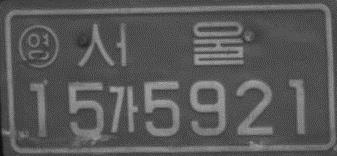1: (26, 79, 56, 140), (285, 77, 311, 137)
2: (235, 78, 275, 136)
5: (65, 79, 106, 139), (141, 78, 182, 138)
9: (187, 79, 228, 137)
가: (106, 83, 139, 136)
서울_D: (75, 19, 248, 72)
영: (18, 22, 60, 69)
